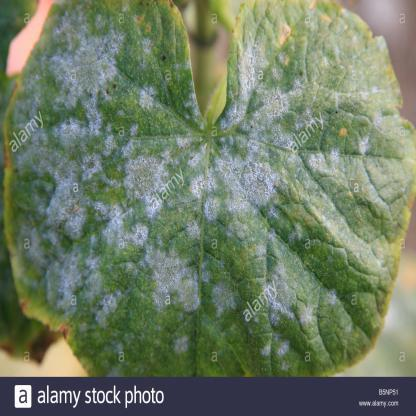Squash Powdery mildew leaf: (3, 1, 416, 376)
